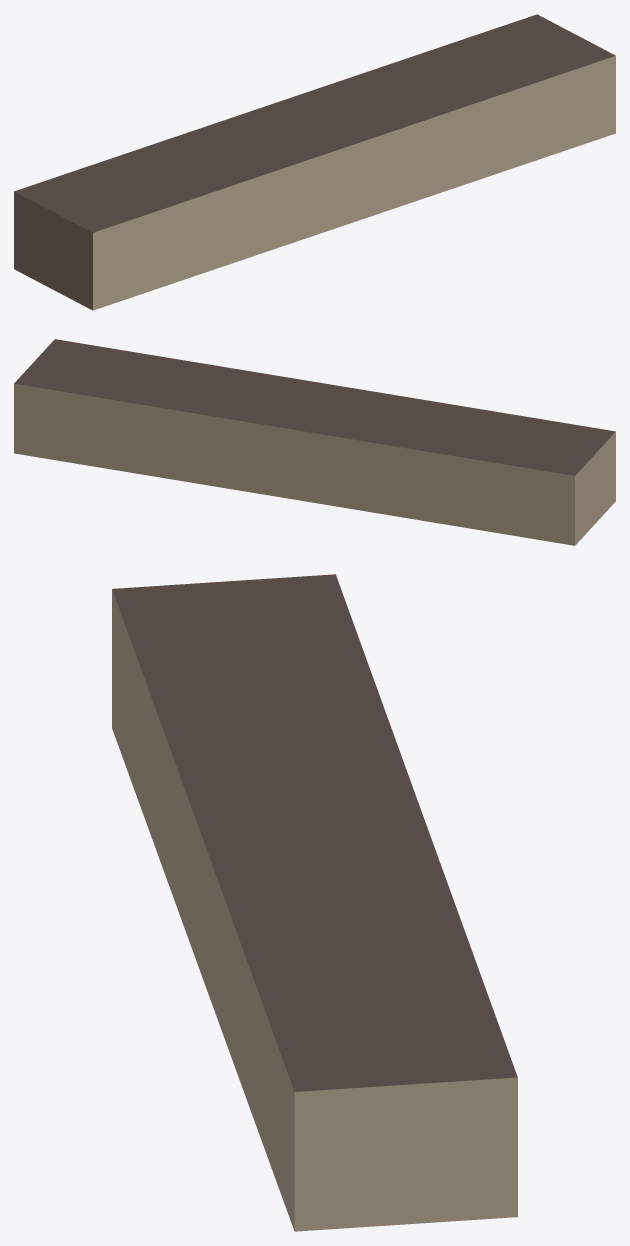
3 views of the same model, one above another, from view 1: azimuth 30°, elevation 25°; view 2: azimuth 150°, elevation 25°; view 3: azimuth 270°, elevation 25° (orthographic). The views are drawn at different scales.
Parts seen in each view (by area): view 1: HP-w859078969; view 2: HP-w859078969; view 3: HP-w859078969.
Part boxes in pixels (<box>): HP-w859078969: <box>14,14,615,310</box>; HP-w859078969: <box>14,339,615,545</box>; HP-w859078969: <box>112,574,517,1231</box>.
Size of the model in its own units: 71.54 by 9 by 23.69.
